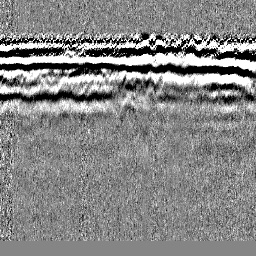cavity: (118, 96, 138, 120)
